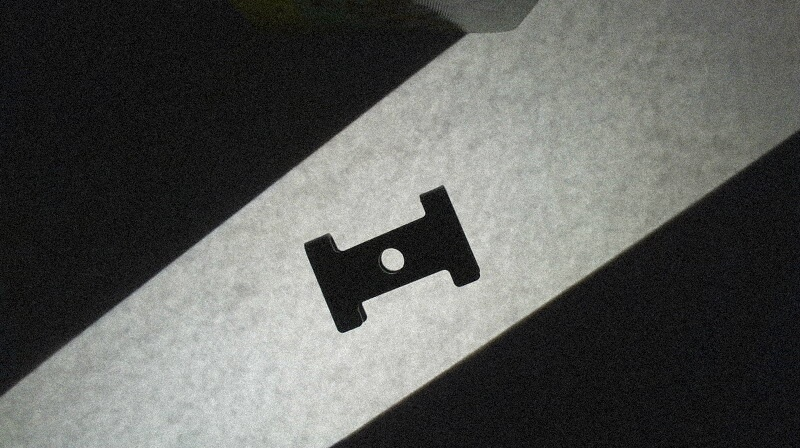O002: (299, 181, 482, 335)
